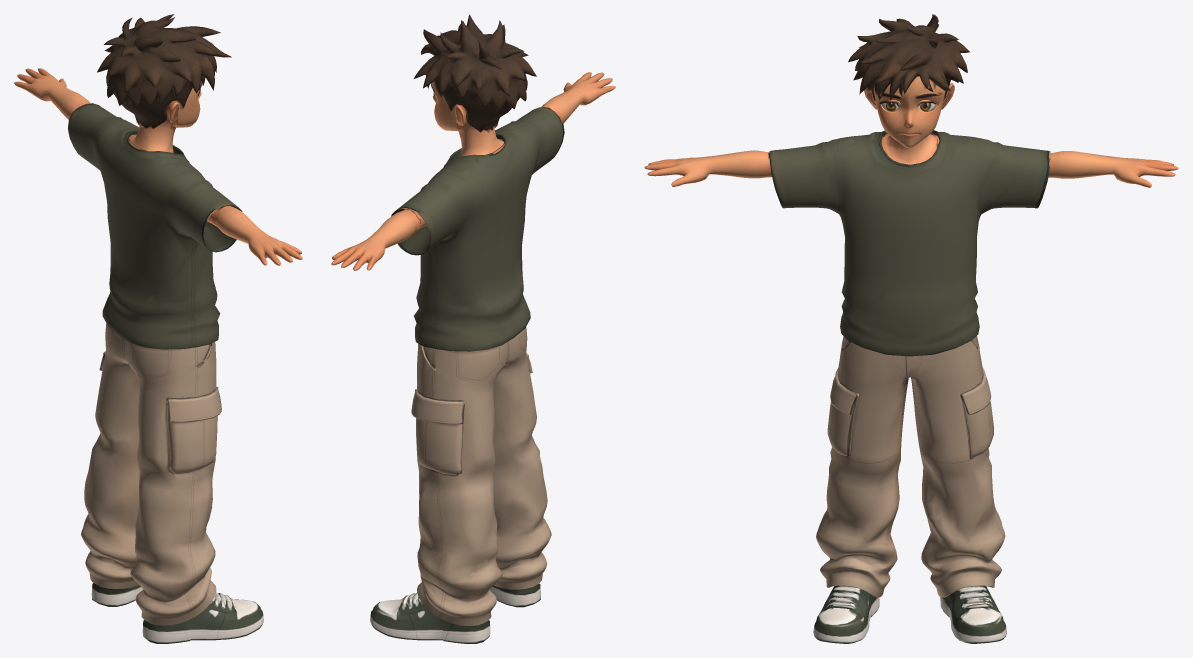
Rendered from output_model_url.fbx.
The picture shows the model from 3 angles, left to right: view 1: azimuth 30°, elevation 25°; view 2: azimuth 150°, elevation 25°; view 3: azimuth 270°, elevation 25°; orthographic projection.
Visible parts, largest first — view 1: tripo_node_7dd29c63; view 2: tripo_node_7dd29c63; view 3: tripo_node_7dd29c63.
Boxes of the visible parts, left/top/right/bottom form: tripo_node_7dd29c63: left=14, top=14, right=302, bottom=643; tripo_node_7dd29c63: left=331, top=14, right=615, bottom=643; tripo_node_7dd29c63: left=644, top=14, right=1178, bottom=643.
Size of the model in its own units: 20.85 by 99.95 by 80.91.
Materials: 1 (1 with a texture image).
